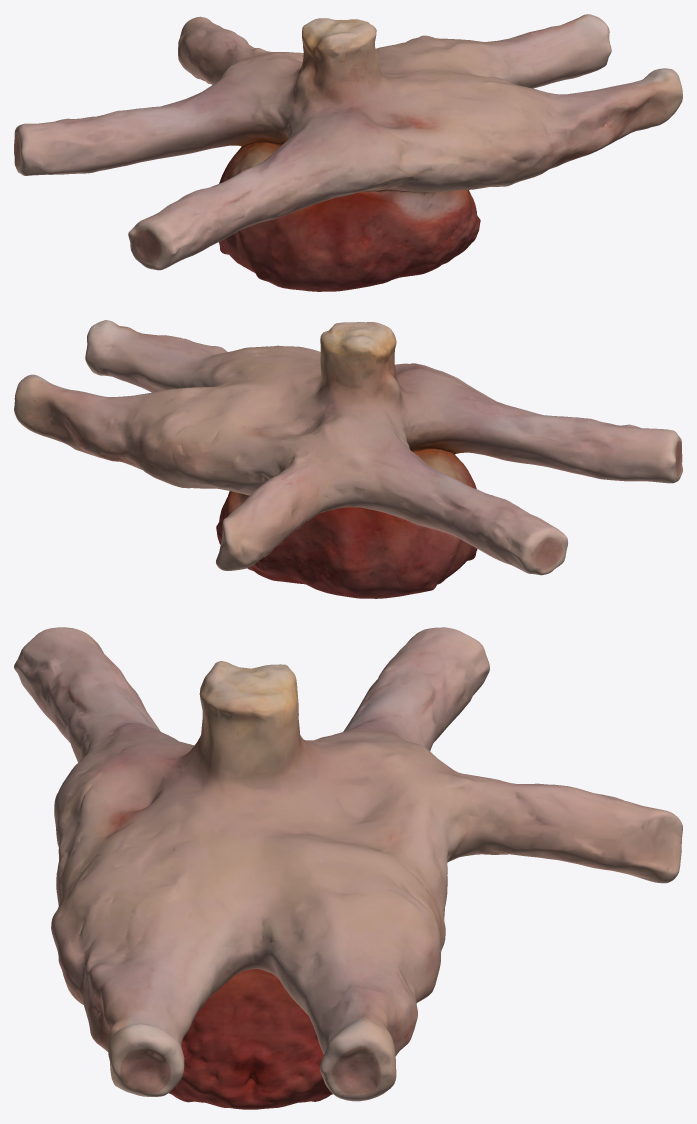
Rendered from pituitary.glb.
3 renders of one model, top to bottom at view 1: azimuth 30°, elevation 25°; view 2: azimuth 150°, elevation 25°; view 3: azimuth 270°, elevation 25°, orthographic. The views are drawn at different scales.
Parts seen in each view (by area): view 1: tripo_node_43fa7cdc-03ea-4e87-b19a-499bb3a8cf27; view 2: tripo_node_43fa7cdc-03ea-4e87-b19a-499bb3a8cf27; view 3: tripo_node_43fa7cdc-03ea-4e87-b19a-499bb3a8cf27.
Part boxes in pixels (bbox=[...]): tripo_node_43fa7cdc-03ea-4e87-b19a-499bb3a8cf27: bbox=[14, 14, 682, 291]; tripo_node_43fa7cdc-03ea-4e87-b19a-499bb3a8cf27: bbox=[14, 320, 682, 598]; tripo_node_43fa7cdc-03ea-4e87-b19a-499bb3a8cf27: bbox=[14, 627, 682, 1109].
Size of the model in its own units: 1 by 0.4106 by 0.6784.
1 material, 1 textured.
